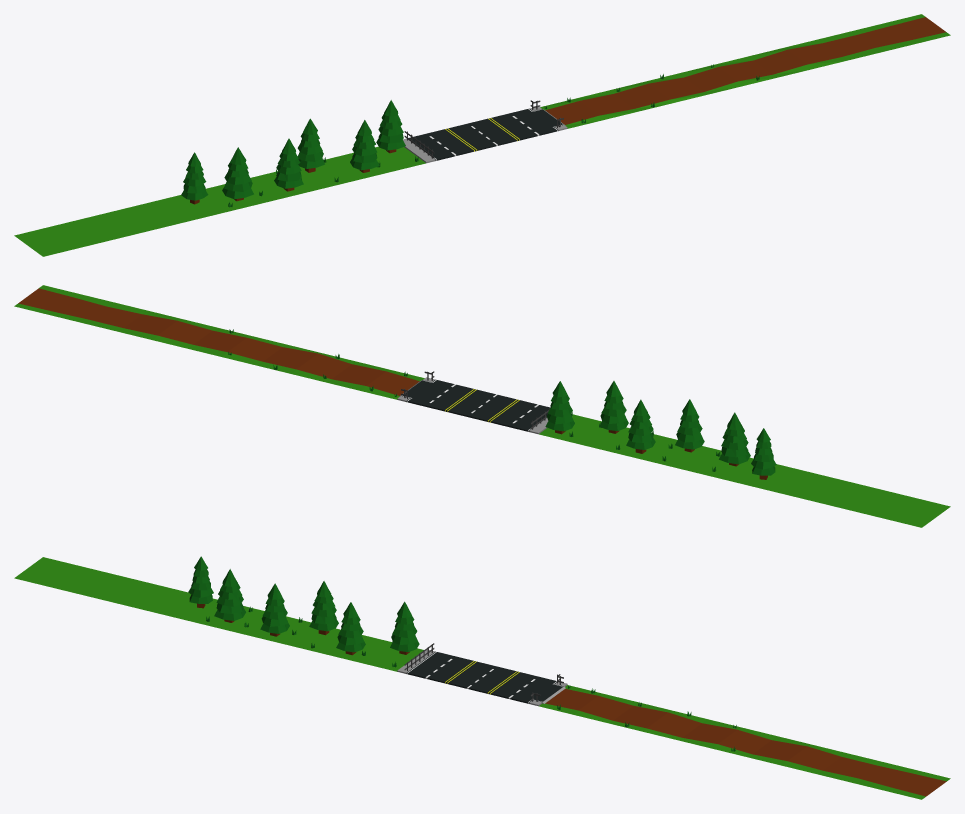
Rendered from Weg_Pad.FBX.
The picture shows the model from 3 angles, top to bottom: view 1: azimuth 30°, elevation 25°; view 2: azimuth 150°, elevation 25°; view 3: azimuth 330°, elevation 25°; orthographic projection.
Parts seen in each view (by area): view 1: Grond3, Bomen003, Road_sidepad; view 2: Grond3, Bomen003, Road_sidepad; view 3: Grond3, Bomen003, Road_sidepad.
Boxes of the visible parts, left/top/right/bottom form: Grond3: left=14, top=14, right=950, bottom=256; Bomen003: left=181, top=100, right=405, bottom=204; Road_sidepad: left=403, top=100, right=567, bottom=163; Grond3: left=14, top=285, right=950, bottom=527; Bomen003: left=545, top=381, right=776, bottom=479; Road_sidepad: left=397, top=371, right=550, bottom=434; Grond3: left=14, top=557, right=950, bottom=799; Bomen003: left=188, top=556, right=419, bottom=655; Road_sidepad: left=397, top=643, right=567, bottom=706.
Size of the model in its own units: 144000 by 8000 by 8094.
